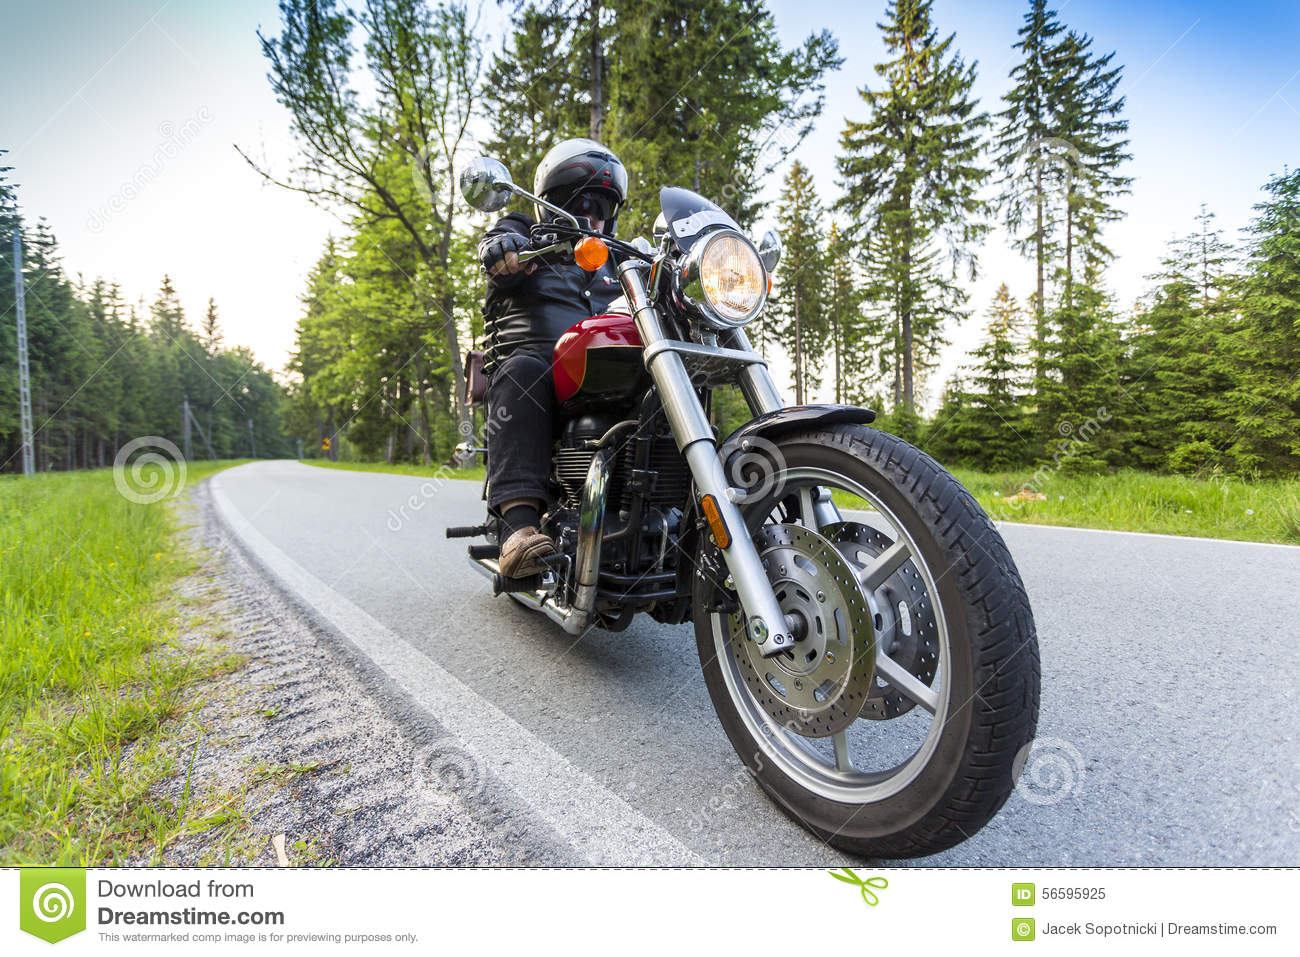helmet: (524, 119, 635, 216)
